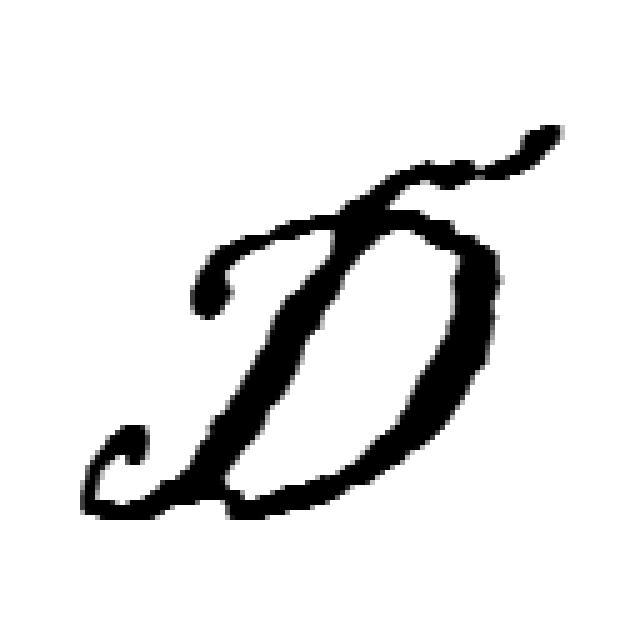D: (200, 175, 514, 543)
